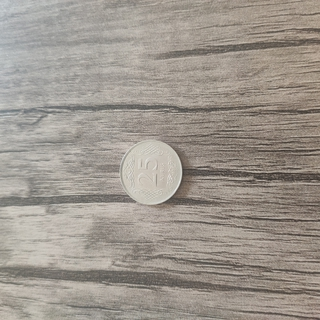25KURUS: (118, 138, 184, 206)
